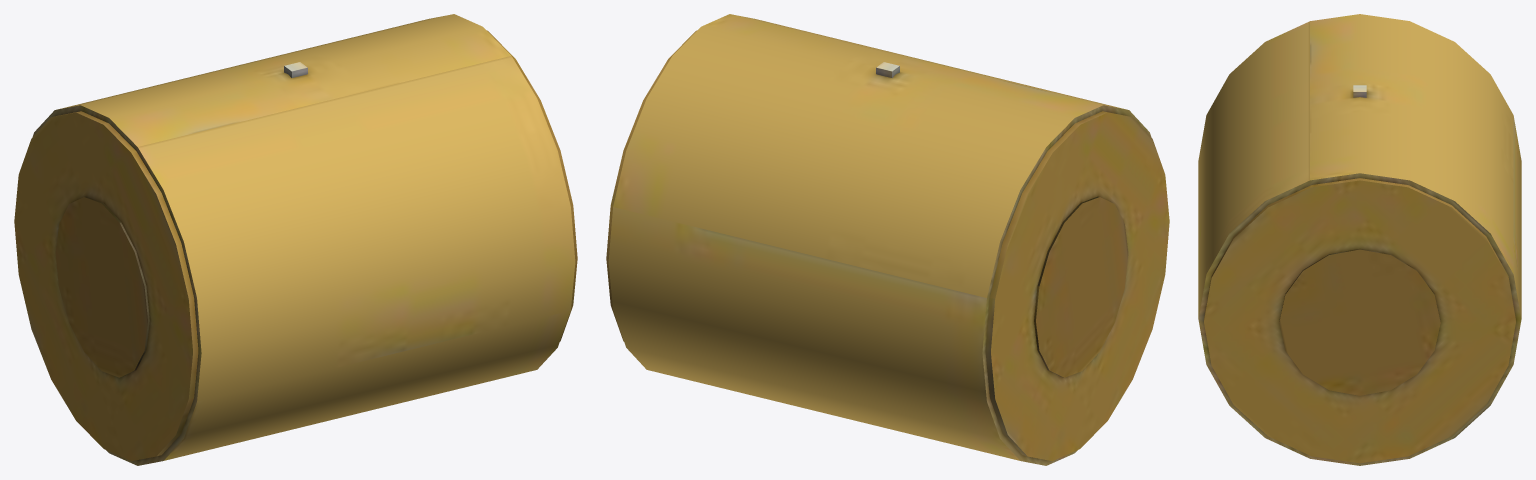
The model's file is rodillo_heno.glb.
3 views of the same model, side by side, from view 1: azimuth 30°, elevation 25°; view 2: azimuth 150°, elevation 25°; view 3: azimuth 270°, elevation 25° (orthographic). The views are drawn at different scales.
Visible parts, largest first — view 1: rodillo_heno; view 2: rodillo_heno; view 3: rodillo_heno.
Part boxes in pixels (bbox=[...]): rodillo_heno: bbox=[14, 14, 577, 465]; rodillo_heno: bbox=[606, 14, 1169, 465]; rodillo_heno: bbox=[1198, 14, 1521, 465].
Size of the model in its own units: 1.45 by 1.24 by 1.2.
Materials: 1 (1 with a texture image).
